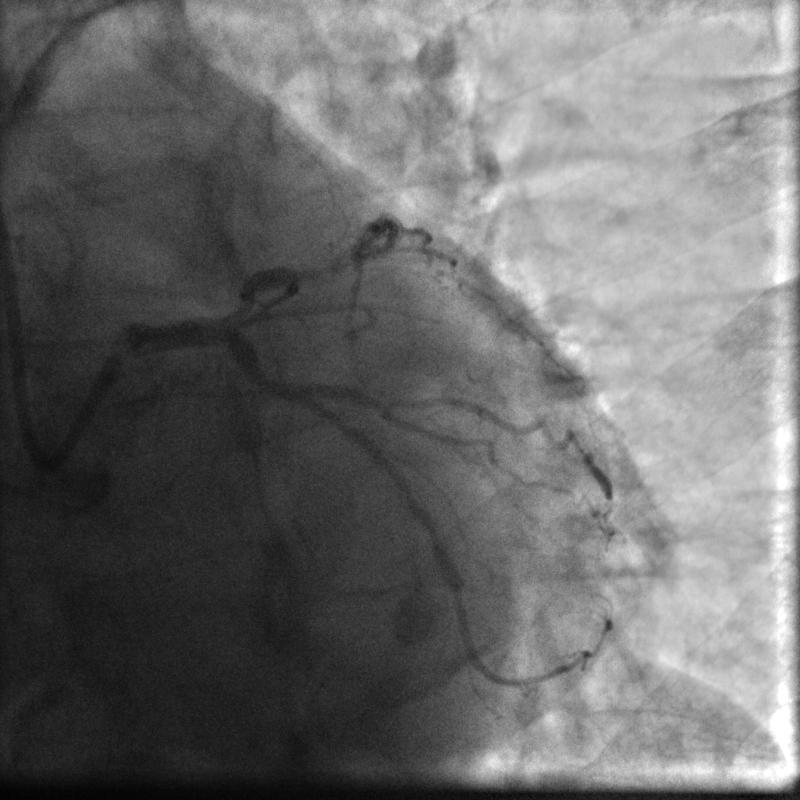Stenosis: (223, 275, 262, 332)
